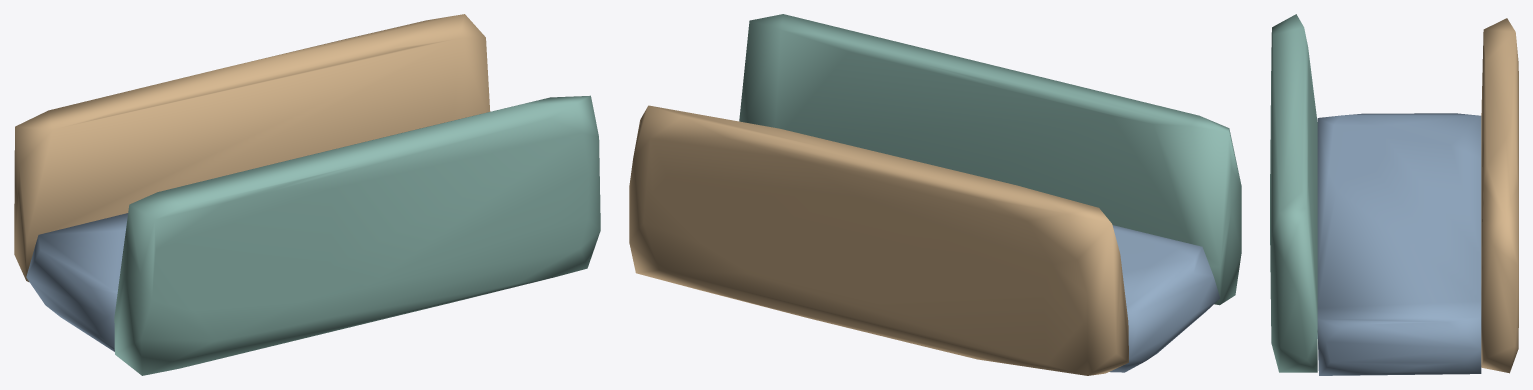
3 views of the same model, side by side, from view 1: azimuth 30°, elevation 25°; view 2: azimuth 150°, elevation 25°; view 3: azimuth 270°, elevation 25° (orthographic). The views are drawn at different scales.
Bounding box in the file's own units: 1.76 × 0.612 × 0.8715.
